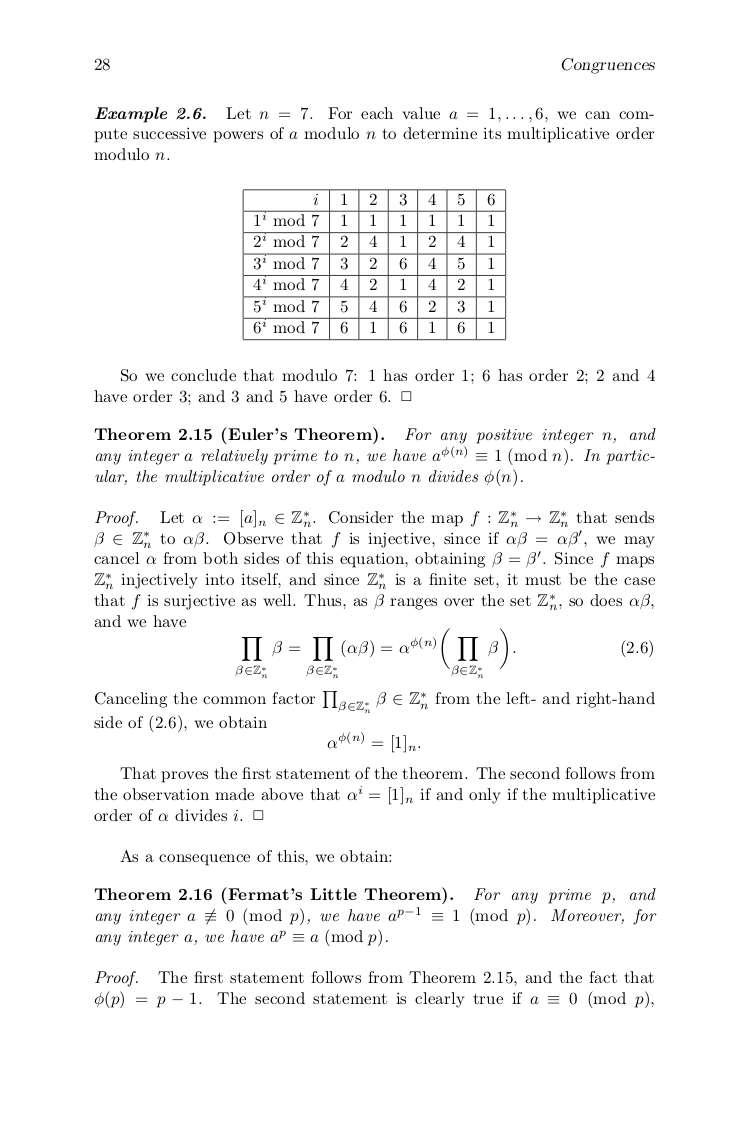Table: (242, 188, 506, 341)
formula: (235, 628, 652, 677), (327, 733, 420, 752)
